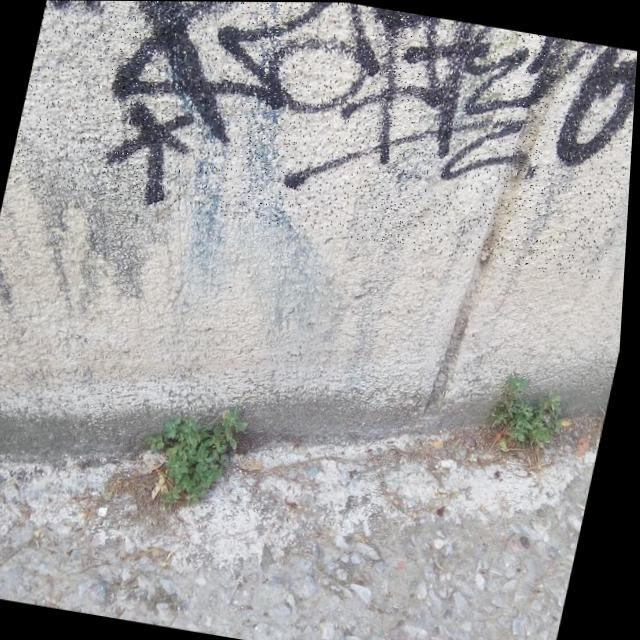-: (4, 0, 640, 281)
